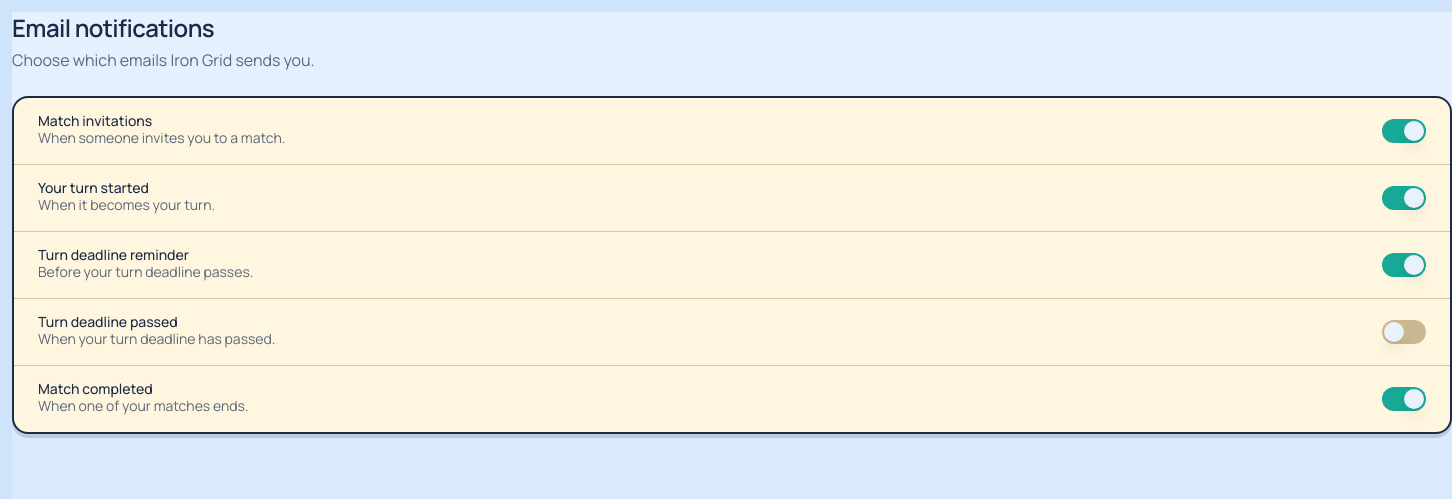
it: NotificationPreferencesForm › reverts and surfaces an error when the patch fails
Click the switch named "Match invitations" in the row of "When someone invites you to a match.": point(1404, 131) [1382,119,1426,143]
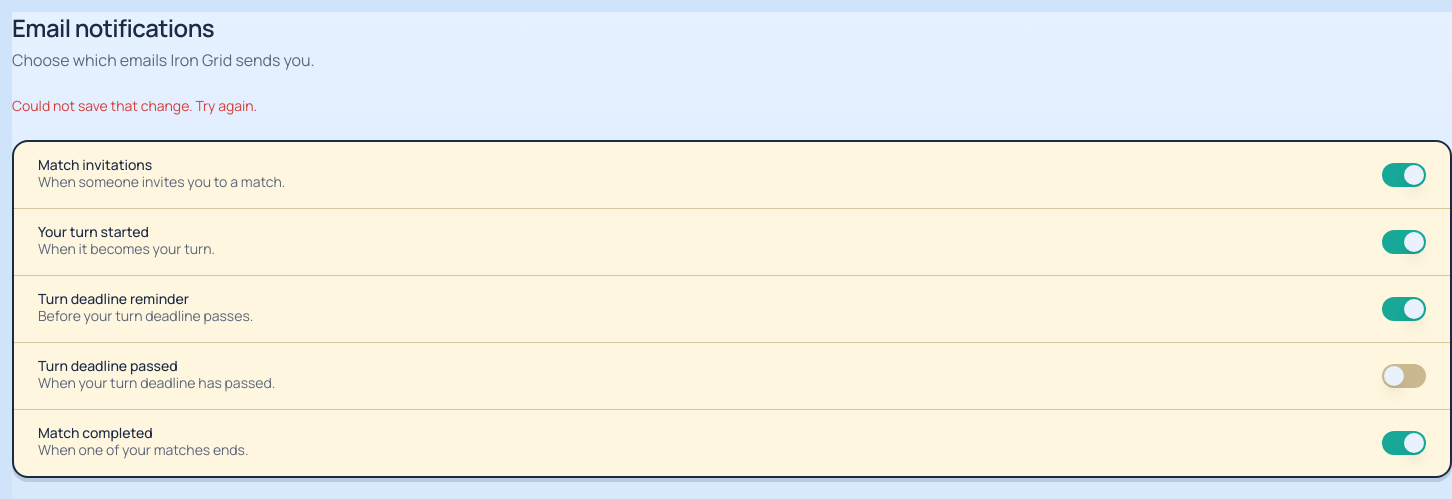
Expected: the switch named "Match invitations" in the row of "When someone invites you to a match." is checked, [1382,163,1426,187]
Expected: the message shows "Could not save", [12,96,257,115]
